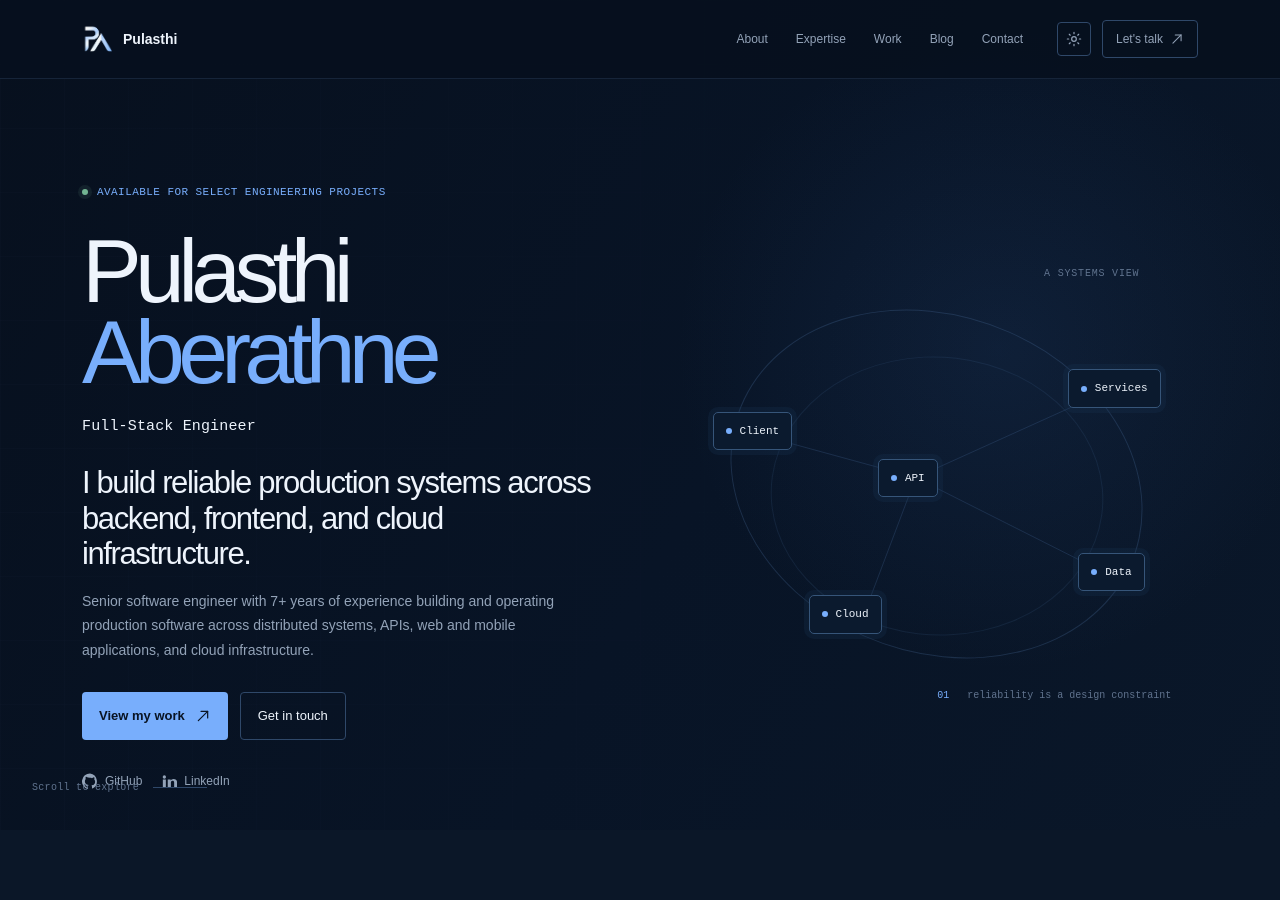
Test: portfolio page › switches the theme and updates the accessible control label
Step 1. Click the button named "Switch to light mode" → (1074, 39), box [1057, 22, 1091, 56]
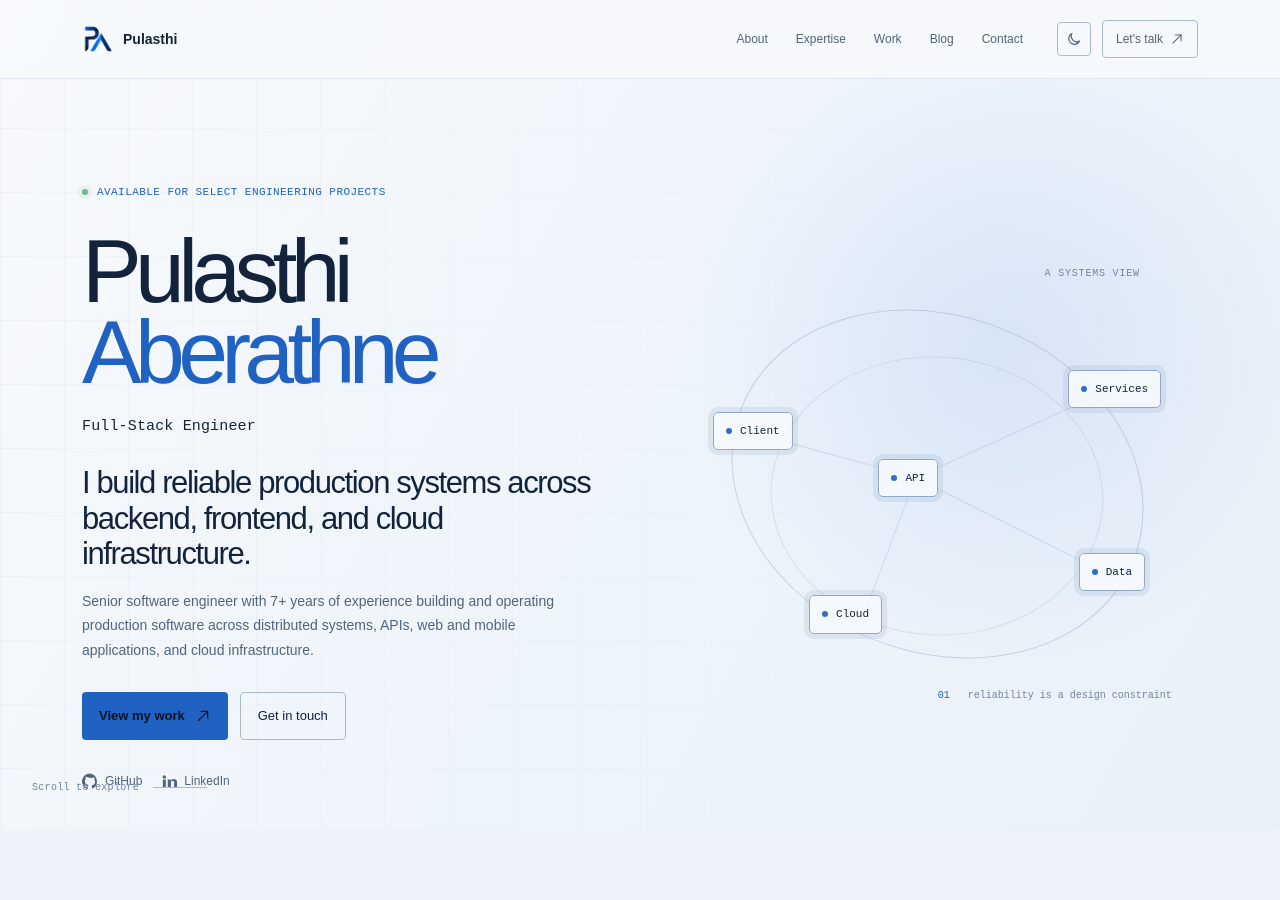
Now the button named "Switch to dark mode" is shown, box [1057, 22, 1091, 56]
